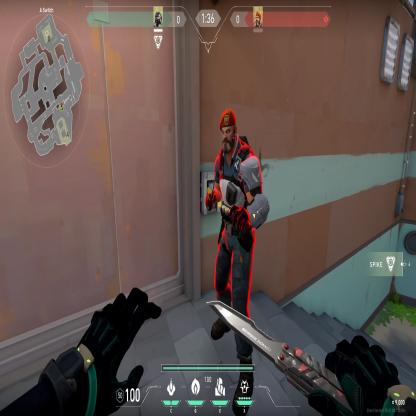enemy: (203, 103, 271, 314)
